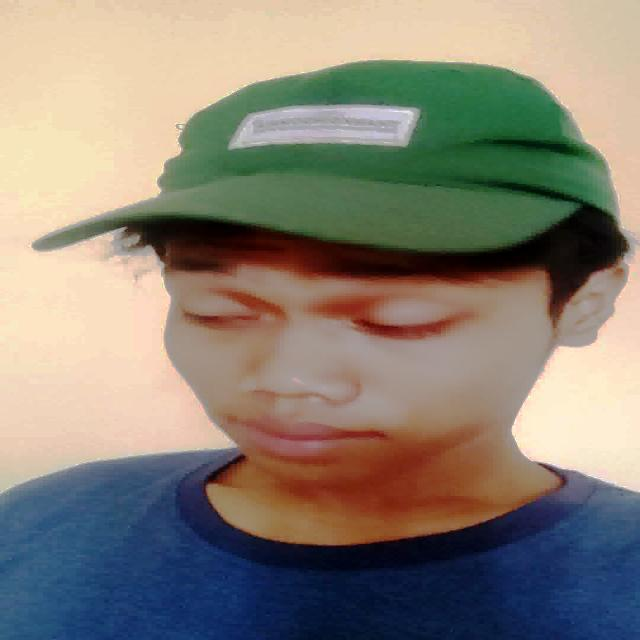TOPI: (33, 54, 625, 260)
